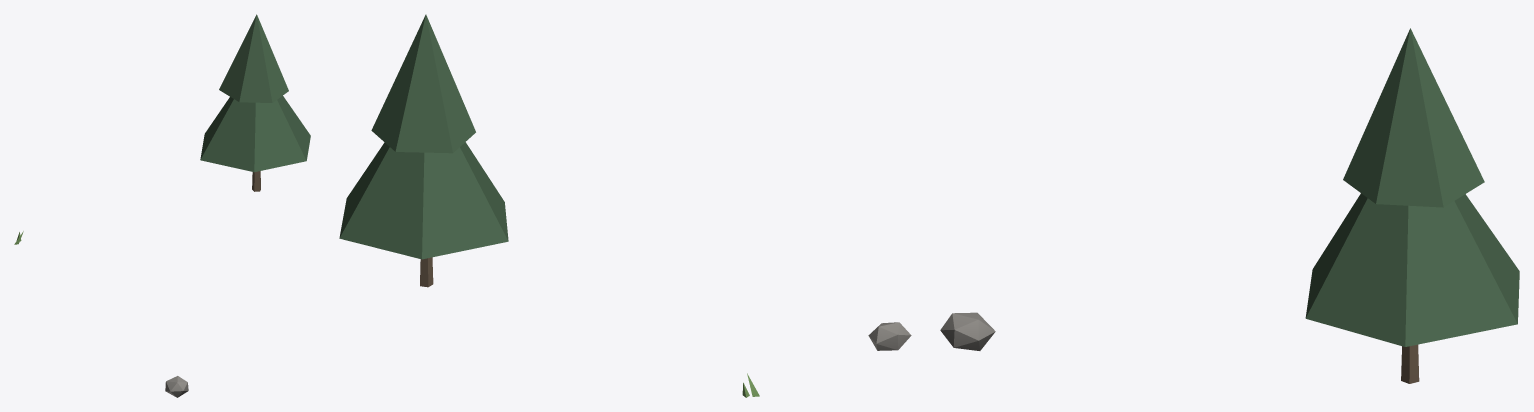
The model's file is arch_land_scatter_c22_19_lod1.glb.
3 views of the same model, side by side, from view 1: azimuth 30°, elevation 25°; view 2: azimuth 150°, elevation 25°; view 3: azimuth 270°, elevation 25° (orthographic). The views are drawn at different scales.
Visible parts, largest first — view 1: arch_land_scatter_c22_19_lod1; view 2: arch_land_scatter_c22_19_lod1; view 3: arch_land_scatter_c22_19_lod1.
Part boxes in pixels (<box>): arch_land_scatter_c22_19_lod1: <box>14,14,310,397</box>; arch_land_scatter_c22_19_lod1: <box>339,14,911,397</box>; arch_land_scatter_c22_19_lod1: <box>940,28,1519,383</box>.
Size of the model in its own units: 15.43 by 13.16 by 13.68.
